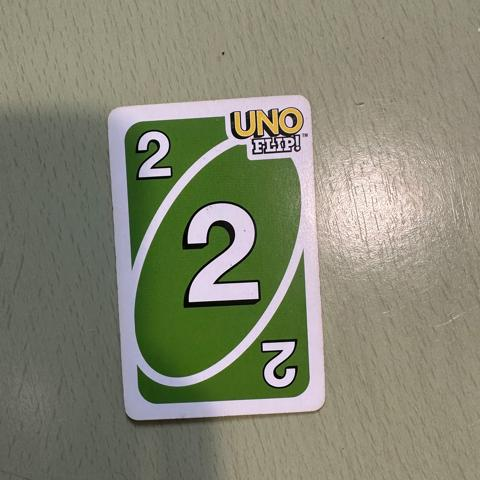lgreen-2: (116, 118, 195, 191)
